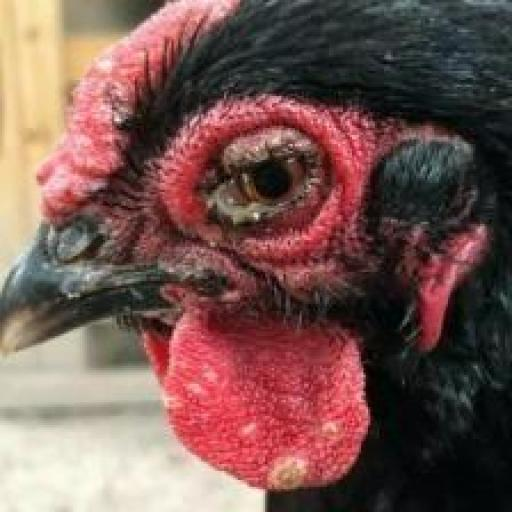disease: (28, 5, 228, 220), (171, 340, 358, 504), (172, 90, 362, 242)
